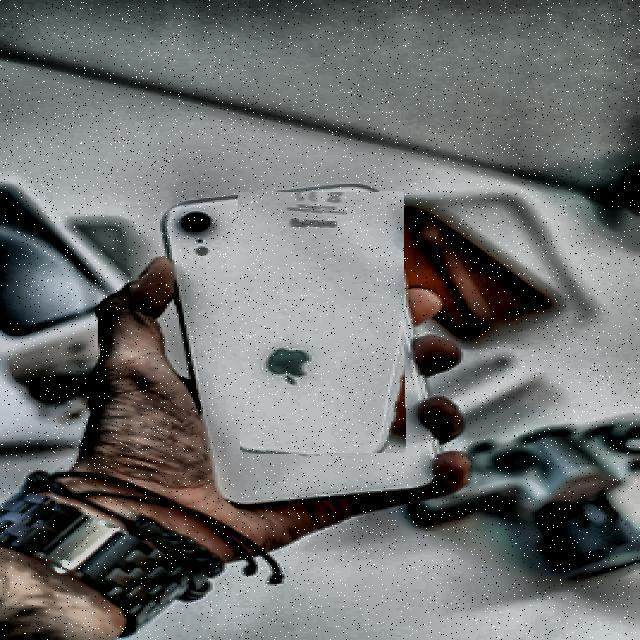Phone: (239, 192, 405, 454)
